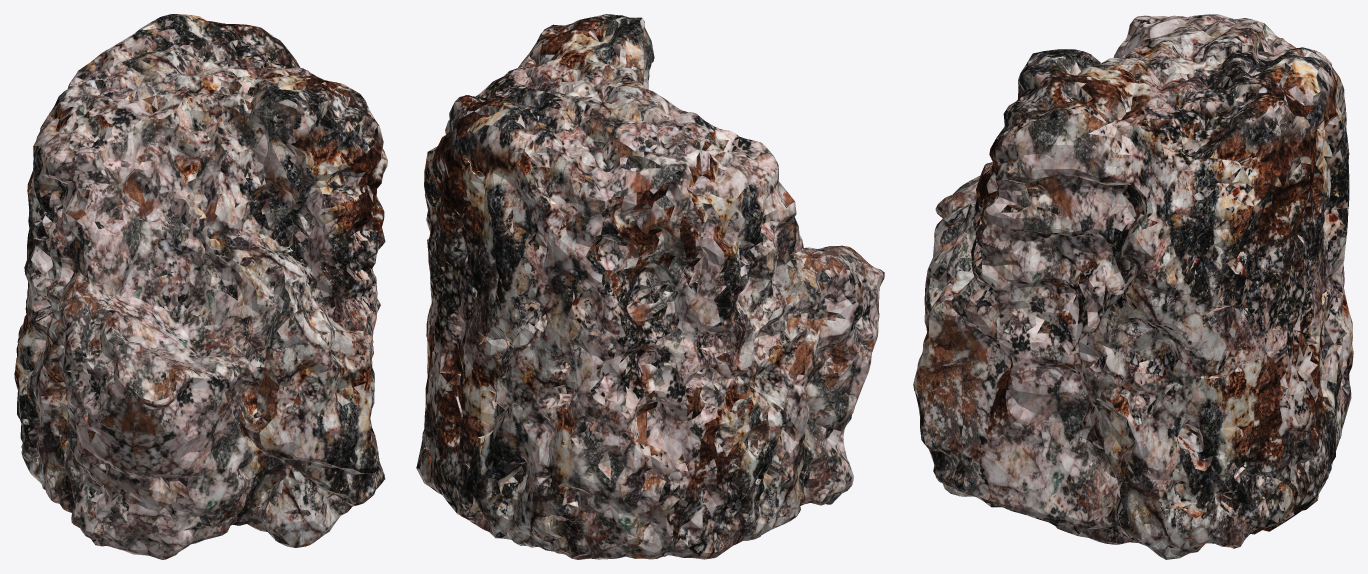
File: Quartz_Rock_GAL_B001.glb
The picture shows the model from 3 angles, left to right: view 1: azimuth 30°, elevation 25°; view 2: azimuth 150°, elevation 25°; view 3: azimuth 270°, elevation 25°; orthographic projection. The views are drawn at different scales.
Parts seen in each view (by area): view 1: tmp1elqyj5k.ply; view 2: tmp1elqyj5k.ply; view 3: tmp1elqyj5k.ply.
Boxes of the visible parts, x1,y1,x2,y2 form: tmp1elqyj5k.ply: [14, 14, 387, 559]; tmp1elqyj5k.ply: [416, 14, 884, 559]; tmp1elqyj5k.ply: [913, 14, 1353, 559].
Size of the model in its own units: 1.72 by 1.96 by 1.71.
Materials: 1 (1 with a texture image).
